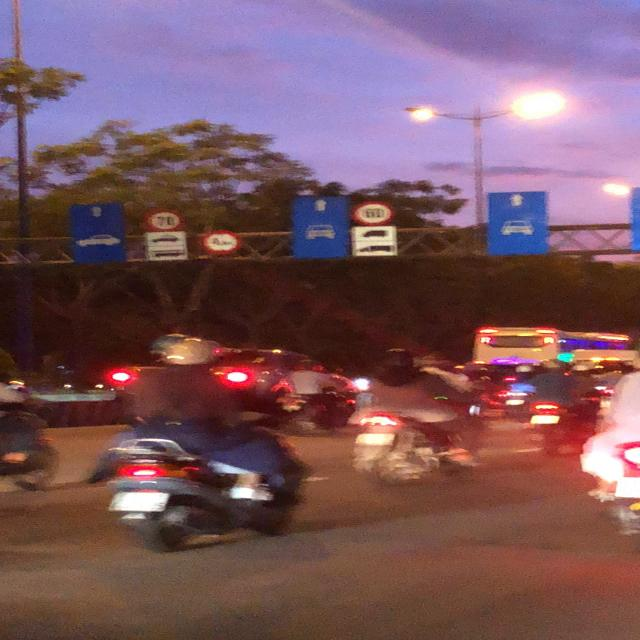Bien bao han che chieu cao: (201, 228, 242, 254)
Bien bao toc do toi da cho phep: (352, 198, 399, 226), (137, 207, 185, 230)
